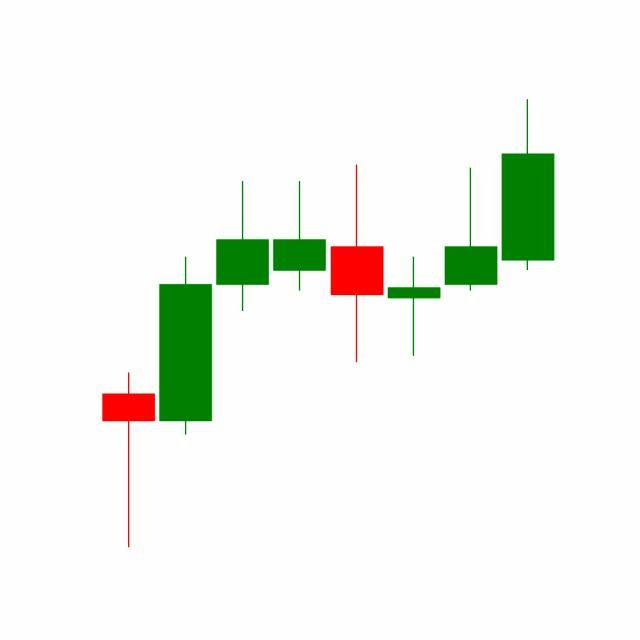Hikkake Pattern: (214, 162, 501, 366)
